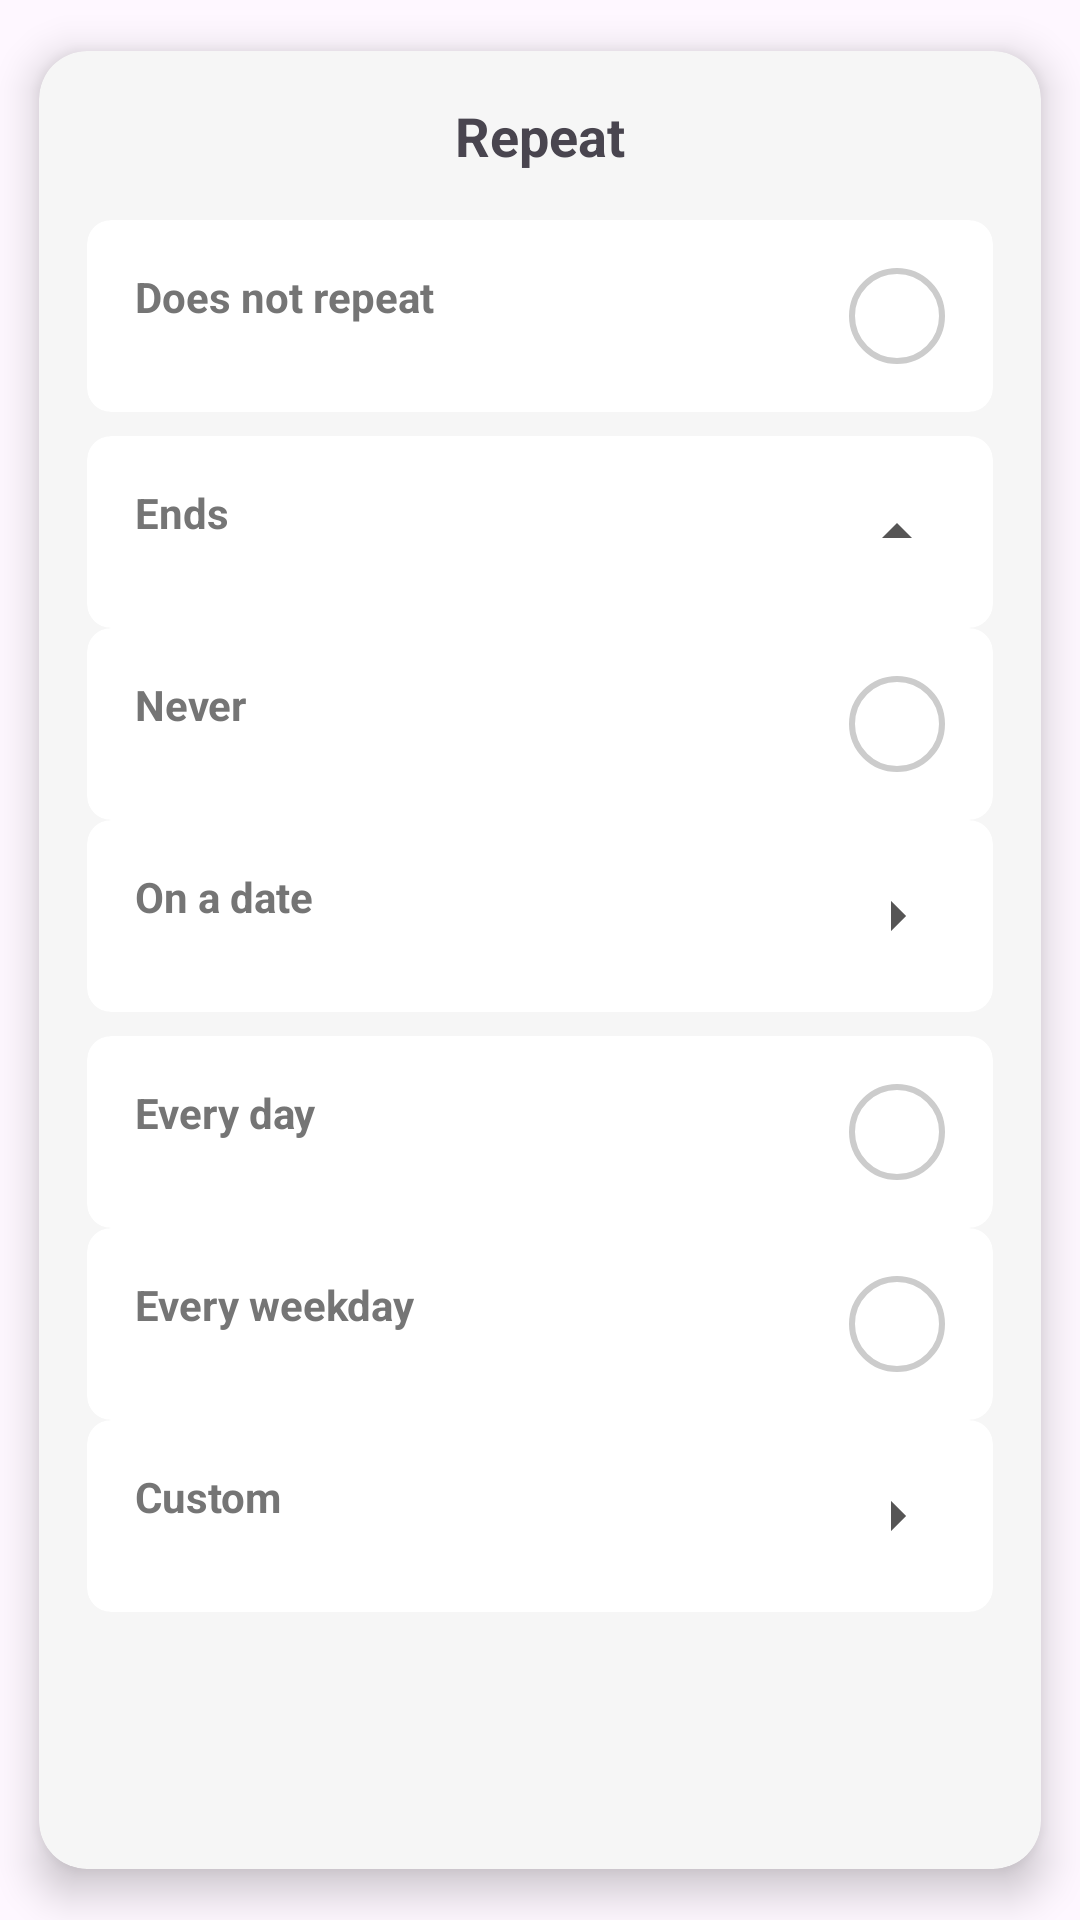

Named icons in this screenshot (1080w x 1920h) and their centers, (x=x, y=y):
arrow right: (x=898, y=916), (x=898, y=1516)
checkbox unchecked: (x=897, y=724), (x=897, y=1132), (x=897, y=1324)
Up button to minimise Ends selection: (x=897, y=530)
